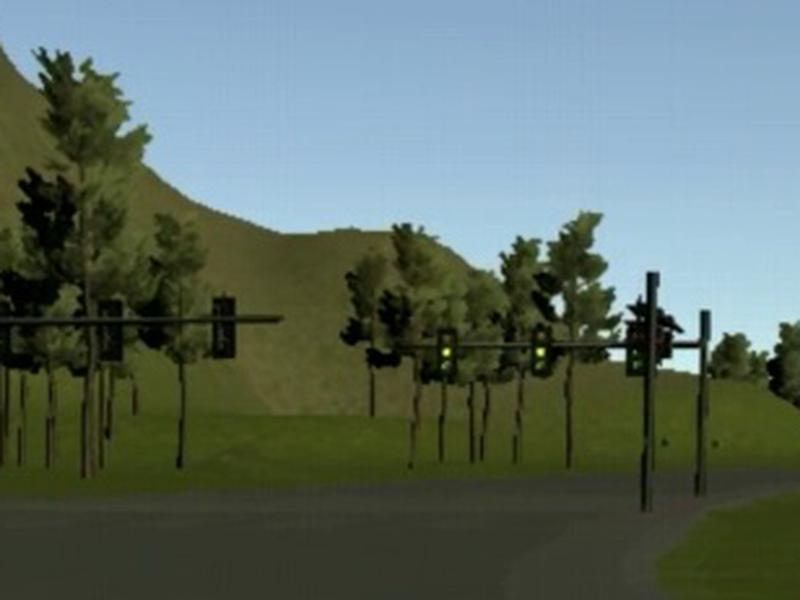Yellow: (436, 326, 458, 375), (530, 325, 550, 377)
